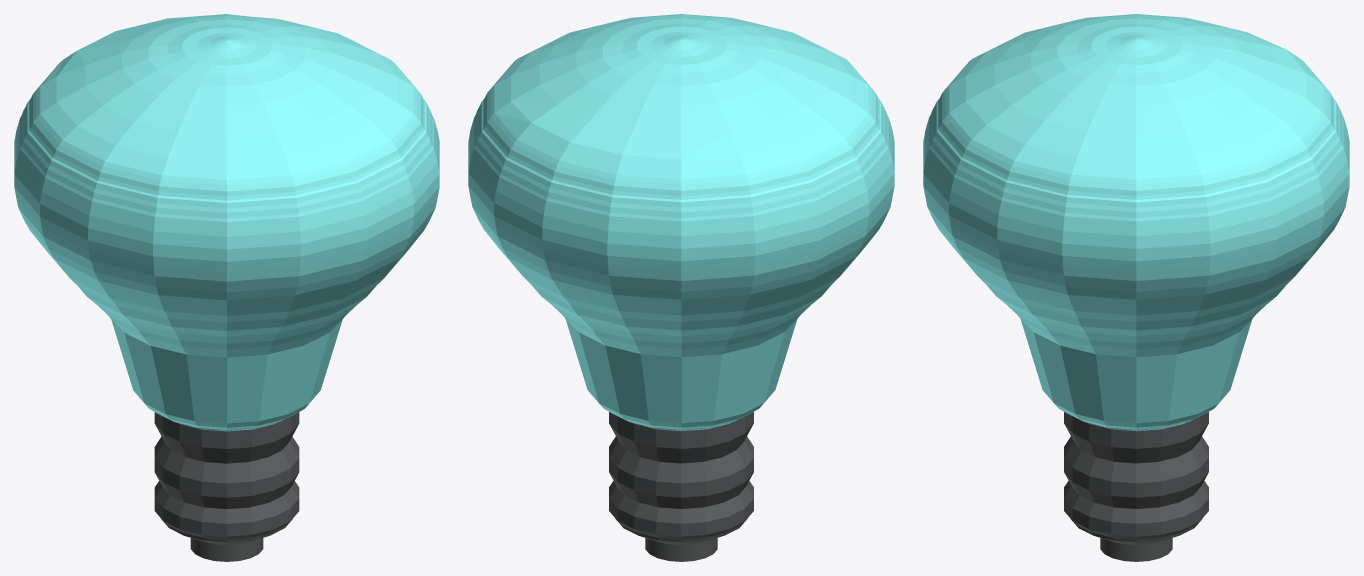
File: LightBulb.FBX
The picture shows the model from 3 angles, left to right: view 1: azimuth 30°, elevation 25°; view 2: azimuth 150°, elevation 25°; view 3: azimuth 270°, elevation 25°; orthographic projection.
Parts seen in each view (by area): view 1: Cylinder002, Cylinder001; view 2: Cylinder002, Cylinder001; view 3: Cylinder002, Cylinder001.
Boxes of the visible parts, box(x1,y1,x2,y2) form: Cylinder002: box(14, 14, 439, 431); Cylinder001: box(154, 412, 299, 561); Cylinder002: box(468, 14, 894, 431); Cylinder001: box(609, 412, 753, 561); Cylinder002: box(923, 14, 1349, 431); Cylinder001: box(1064, 412, 1208, 561).
Size of the model in its own units: 117 by 152 by 116.
